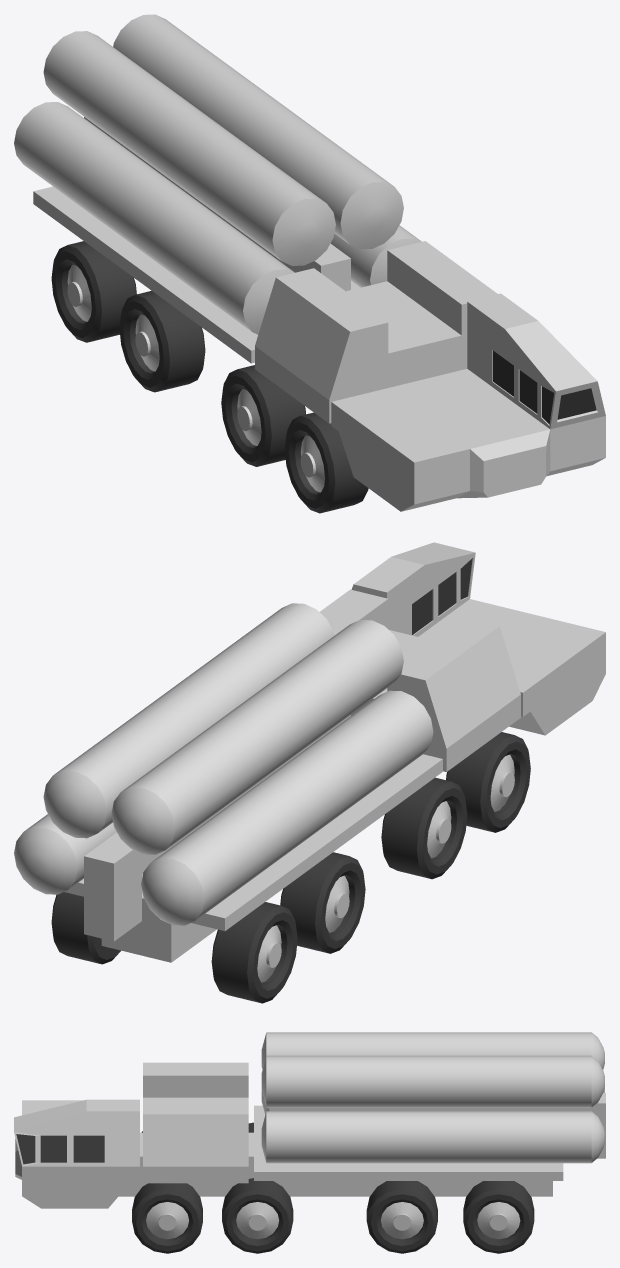
Rendered from TestSAM.fbx.
The picture shows the model from 3 angles, top to bottom: view 1: azimuth 30°, elevation 25°; view 2: azimuth 150°, elevation 25°; view 3: azimuth 270°, elevation 25°; orthographic projection. The views are drawn at different scales.
Visible parts, largest first — view 1: SAM, 立方体.012, 柱体.002, 柱体.004, 立方体.008; view 2: SAM, 立方体.012, 柱体.002, 柱体.004, 立方体.008; view 3: SAM, 立方体.012, 柱体.002, 柱体.004, 立方体.008.
Part boxes in pixels (x1,y1,x2,y2): SAM: (14,14,421,334); 立方体.012: (33,186,605,511); 柱体.002: (51,241,368,513); 柱体.004: (67,264,324,492); 立方体.008: (493,350,596,424); SAM: (14,603,433,941); 立方体.012: (64,542,605,962); 柱体.002: (51,732,530,1003); 柱体.004: (257,754,514,982); 立方体.008: (412,558,472,634); SAM: (261,1032,605,1163); 立方体.012: (14,1062,563,1208); 柱体.002: (132,1122,534,1253); 柱体.004: (146,1202,520,1239); 立方体.008: (16,1134,104,1164).
Size of the model in its own units: 564 by 654 by 2020.
Materials: 2 (1 with a texture image).
